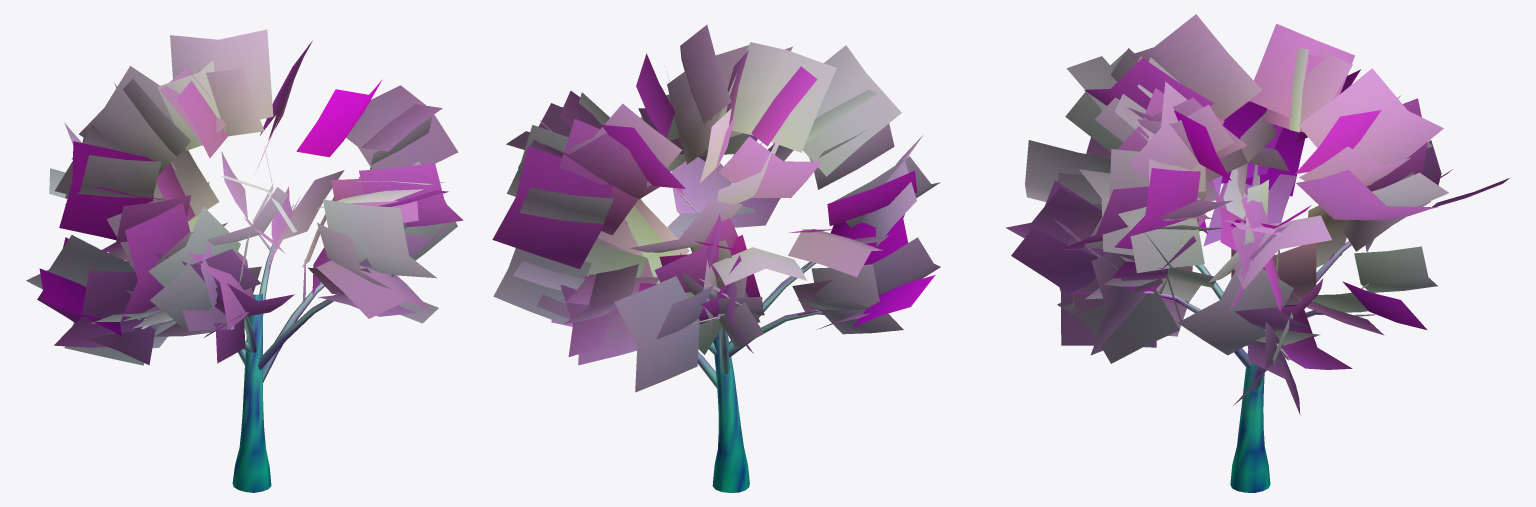
The model's file is laubbaum_b.glb.
The picture shows the model from 3 angles, left to right: view 1: azimuth 30°, elevation 25°; view 2: azimuth 150°, elevation 25°; view 3: azimuth 270°, elevation 25°; orthographic projection. The views are drawn at different scales.
Parts seen in each view (by area): view 1: laubbaum_b_lod0; view 2: laubbaum_b_lod0; view 3: laubbaum_b_lod0.
Boxes of the visible parts, x1,y1,x2,y2 form: laubbaum_b_lod0: (26,29,463,492); laubbaum_b_lod0: (492,24,940,492); laubbaum_b_lod0: (1005,14,1509,492).
Size of what is drawn, in the model's own units: 10.37 by 10.21 by 10.3.
